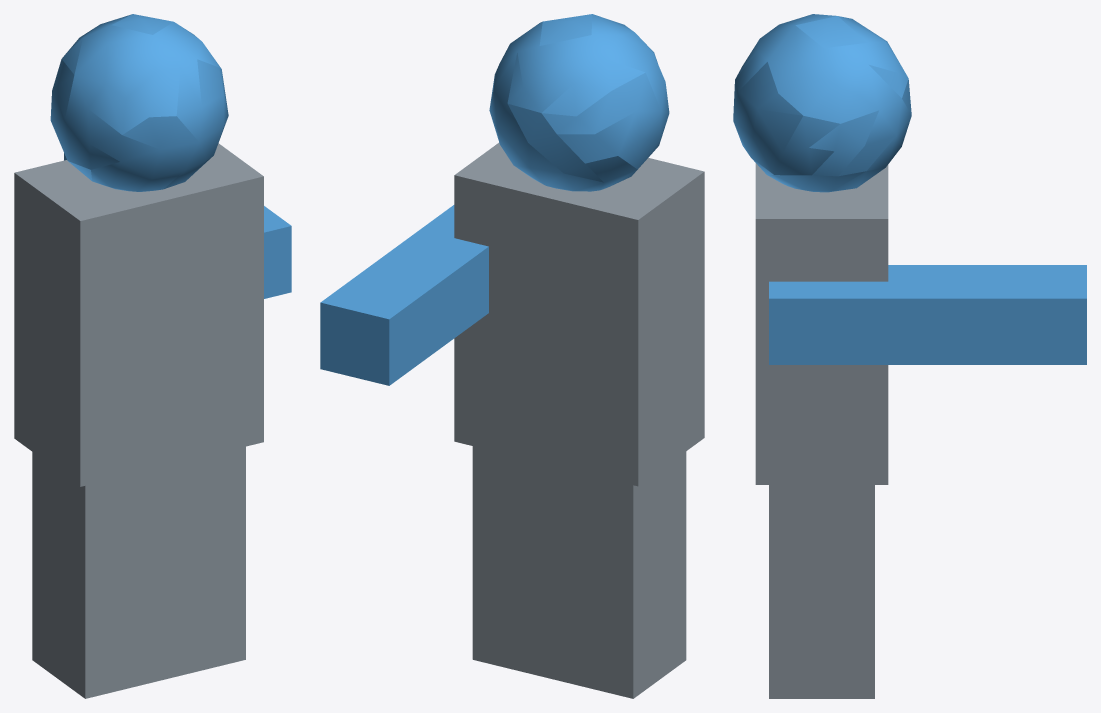
The model's file is AL_FrostlineSpecialist_LOD2.glb.
3 views of the same model, side by side, from view 1: azimuth 30°, elevation 25°; view 2: azimuth 150°, elevation 25°; view 3: azimuth 270°, elevation 25° (orthographic).
Visible parts, largest first — view 1: Head; view 2: Head; view 3: Head.
Boxes of the visible parts, left/top/right/bottom form: Head: left=14, top=14, right=291, bottom=698; Head: left=320, top=14, right=704, bottom=698; Head: left=733, top=14, right=1086, bottom=698.
Size of the model in its own units: 61.75 by 173 by 86.81.
